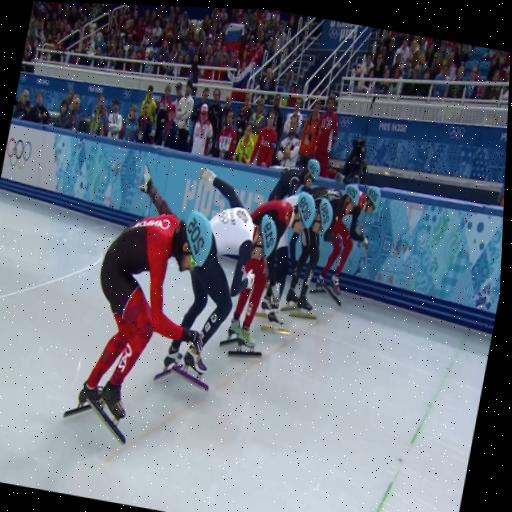Skater: (65, 168, 211, 442), (181, 169, 276, 347), (315, 186, 380, 295), (228, 251, 279, 355), (285, 229, 319, 318), (267, 159, 319, 200), (261, 288, 288, 334)
